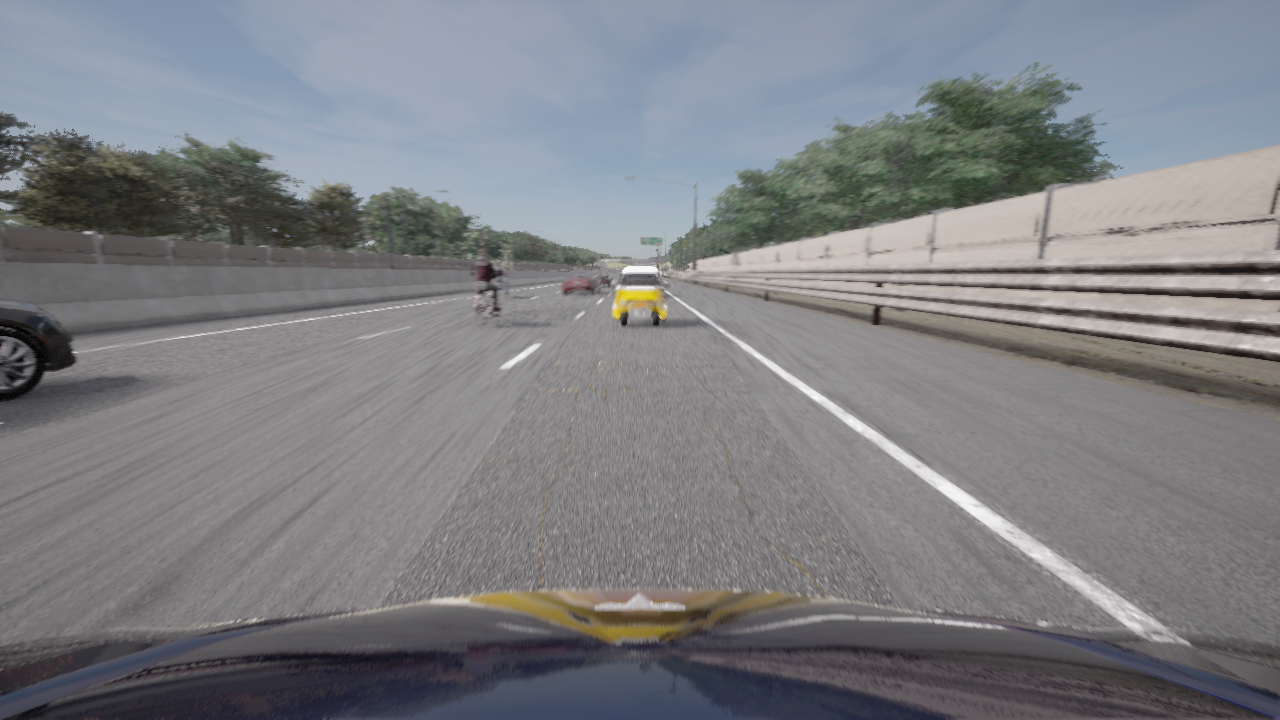cyclist: (0, 588, 1279, 719), (611, 266, 668, 326), (474, 291, 499, 327), (562, 270, 600, 293), (592, 270, 612, 286), (496, 282, 503, 296)
pedestrian: (503, 274, 509, 298)
